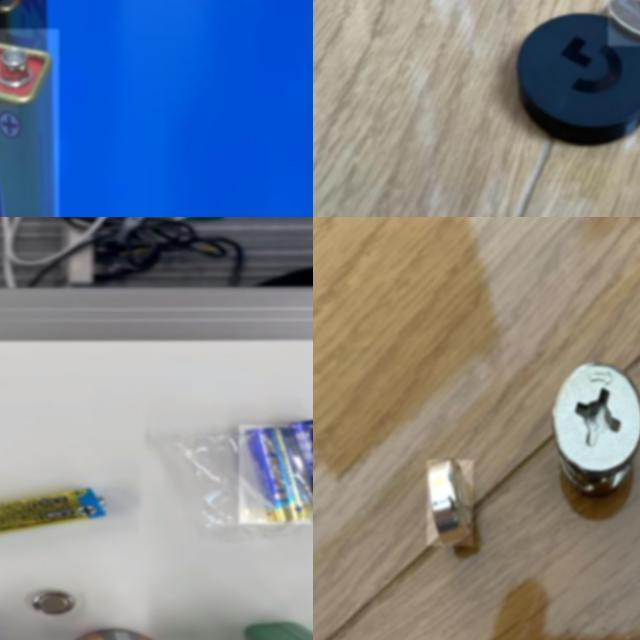9V: (0, 29, 59, 217), (0, 0, 48, 54)
